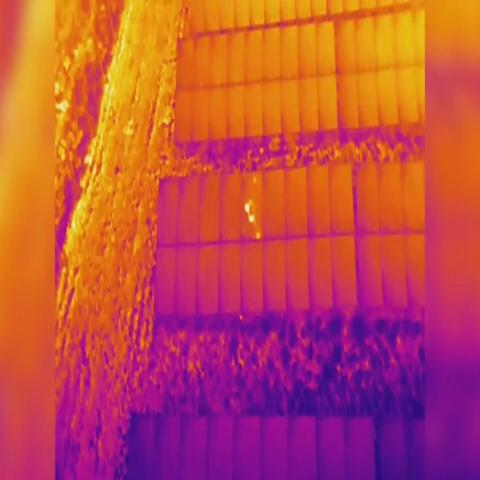fault: (243, 202, 251, 214), (254, 232, 262, 242), (247, 214, 255, 223)
